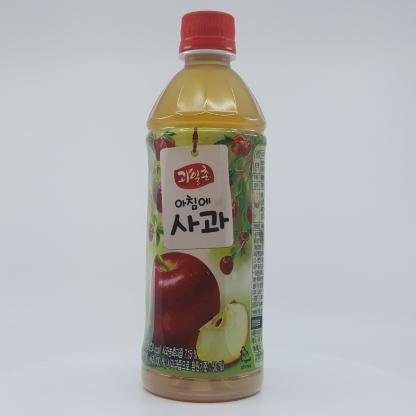--------500ML: (140, 11, 267, 402)
